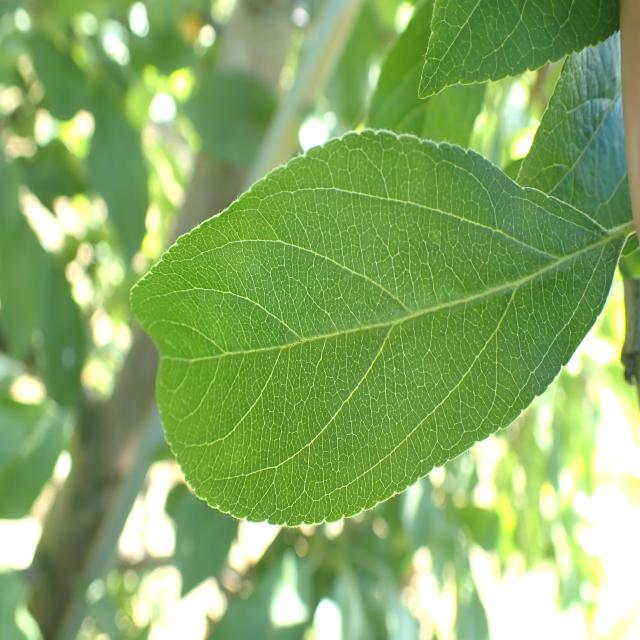healthy: (128, 127, 623, 528), (516, 29, 638, 258), (417, 0, 621, 100)
